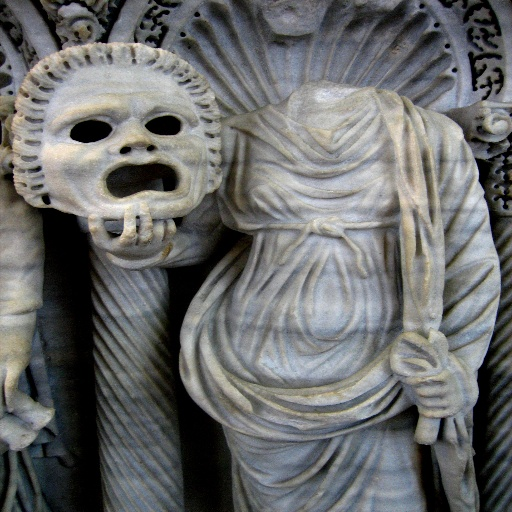hand: (88, 199, 176, 259), (408, 366, 470, 419)
